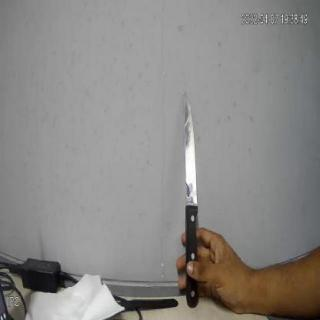knife: (177, 83, 206, 309)
